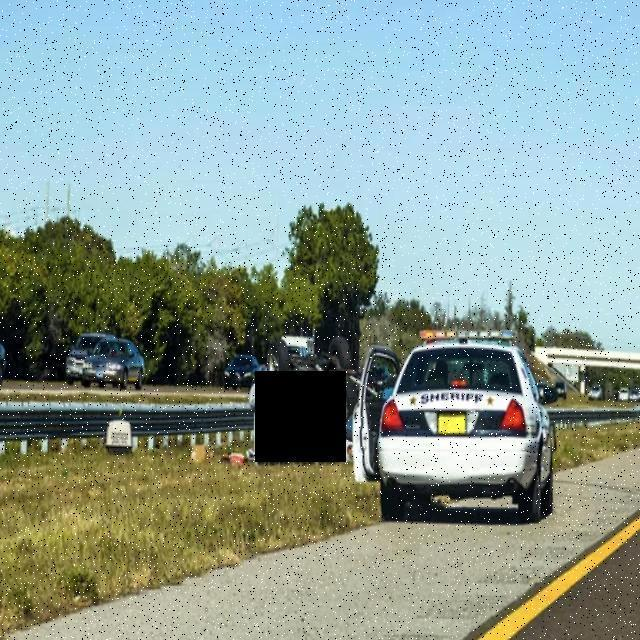accident: (247, 330, 381, 468)
